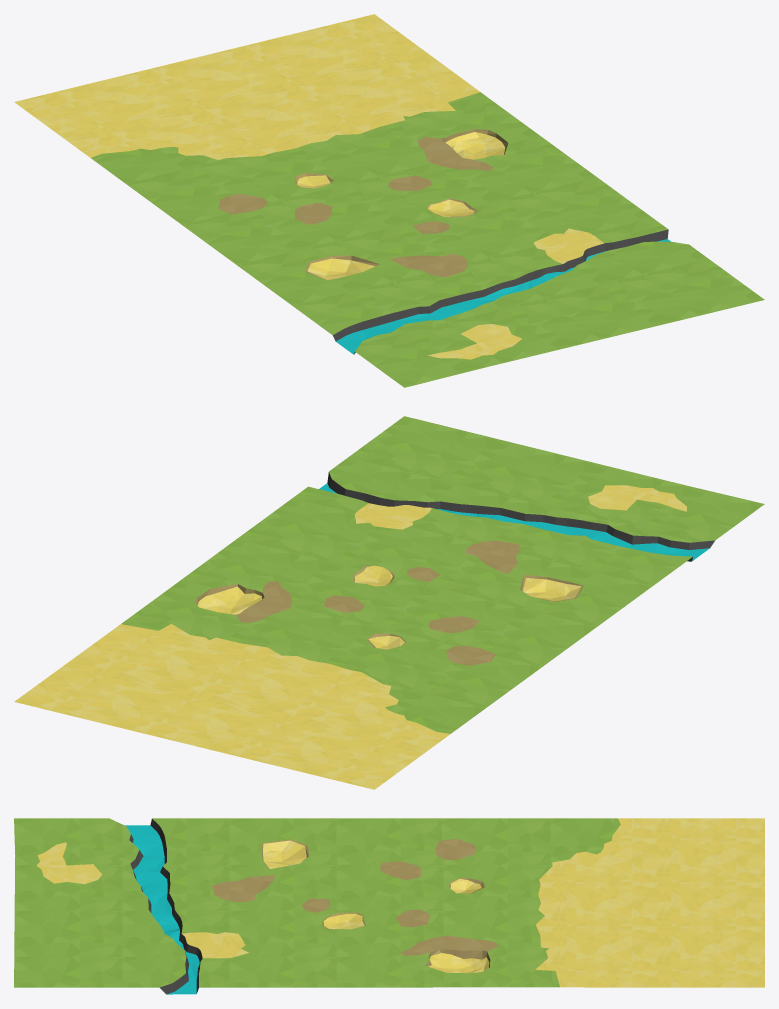
3 renders of one model, top to bottom at view 1: azimuth 30°, elevation 25°; view 2: azimuth 150°, elevation 25°; view 3: azimuth 270°, elevation 25°, orthographic. The views are drawn at different scales.
Parts seen in each view (by area): view 1: DB_01; view 2: DB_01; view 3: DB_01.
Boxes of the visible parts, x1,y1,x2,y2 form: DB_01: [14, 14, 764, 387]; DB_01: [14, 416, 764, 789]; DB_01: [14, 818, 764, 994].
Size of the model in its own units: 38.68 by 0.9945 by 72.55.
